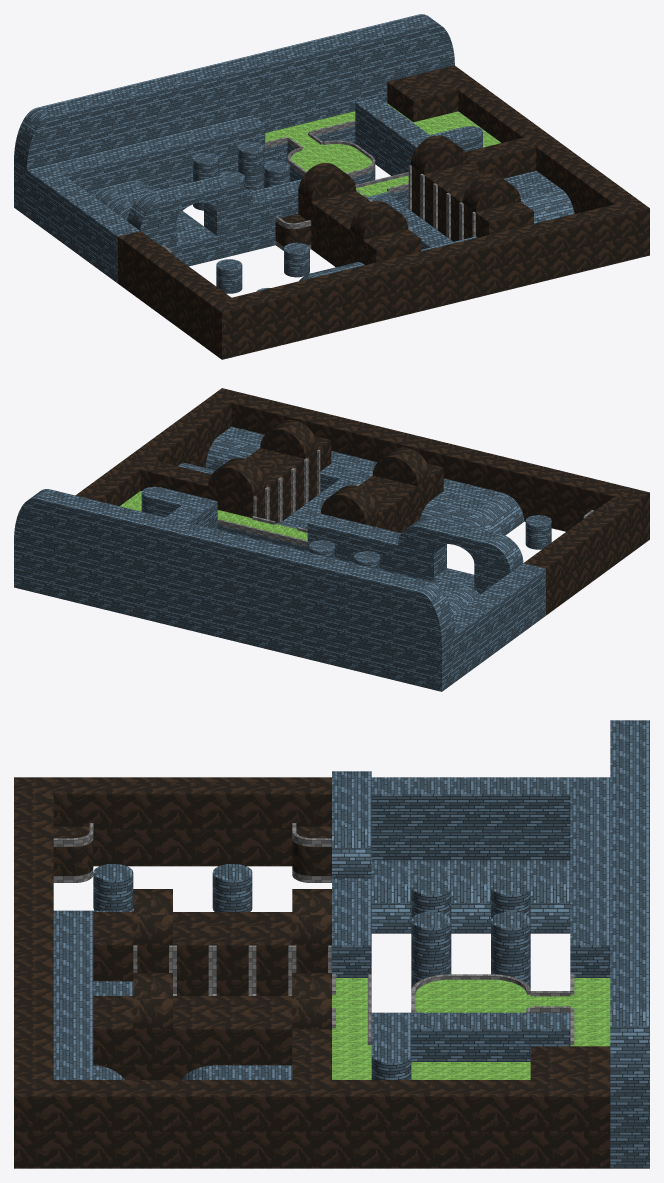
The model's file is level3_model.fbx.
3 views of the same model, one above another, from view 1: azimuth 30°, elevation 25°; view 2: azimuth 150°, elevation 25°; view 3: azimuth 270°, elevation 25° (orthographic). The views are drawn at different scales.
Parts seen in each view (by area): view 1: mergedBlocks; view 2: mergedBlocks; view 3: mergedBlocks.
Boxes of the visible parts, x1,y1,x2,y2 form: mergedBlocks: [14, 14, 649, 359]; mergedBlocks: [14, 388, 649, 691]; mergedBlocks: [14, 720, 649, 1168].
Size of the model in its own units: 190 by 40 by 160.
